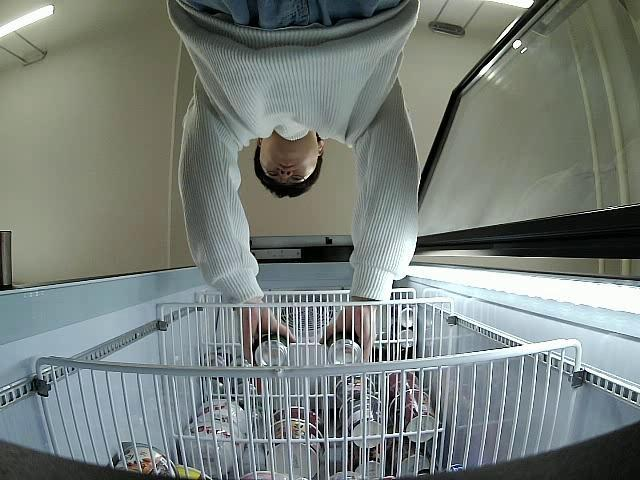12_chilsungCider: (253, 334, 290, 367), (326, 332, 363, 364)
